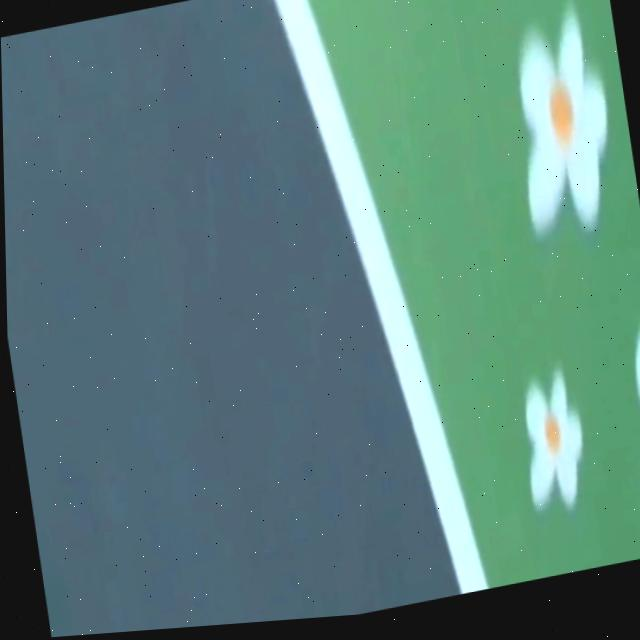right: (273, 0, 488, 594)
